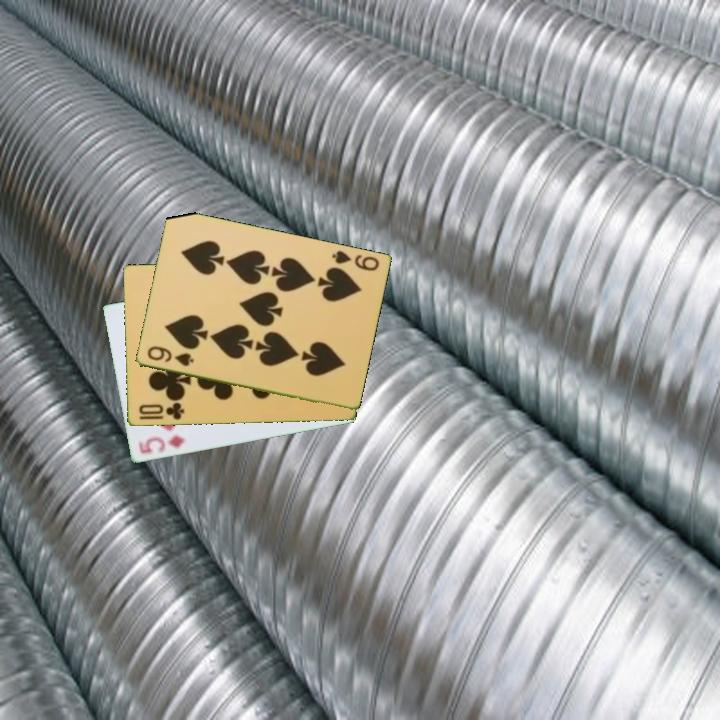10c: (135, 399, 187, 423)
5d: (135, 432, 187, 457)
9s: (328, 247, 382, 274), (143, 342, 196, 369)
